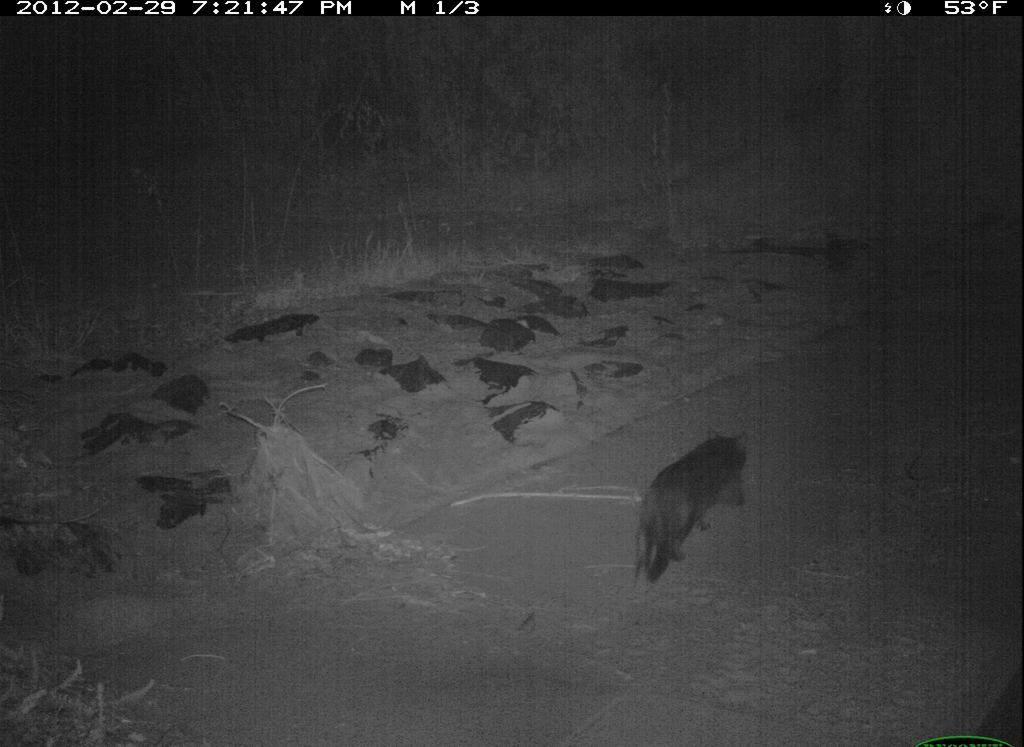cat: (633, 383, 763, 643)
